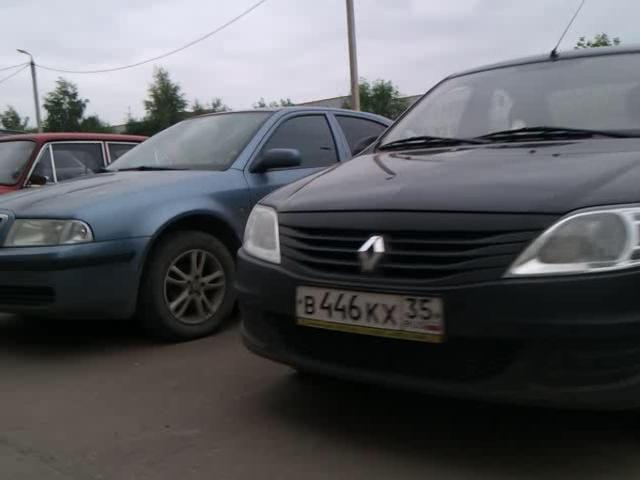car license plate: (294, 284, 445, 349)
